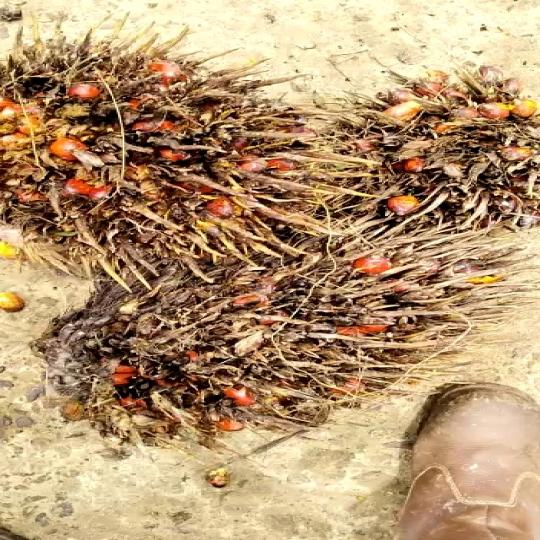terlalu masak: (25, 218, 506, 438), (0, 36, 338, 273), (324, 61, 533, 232)
